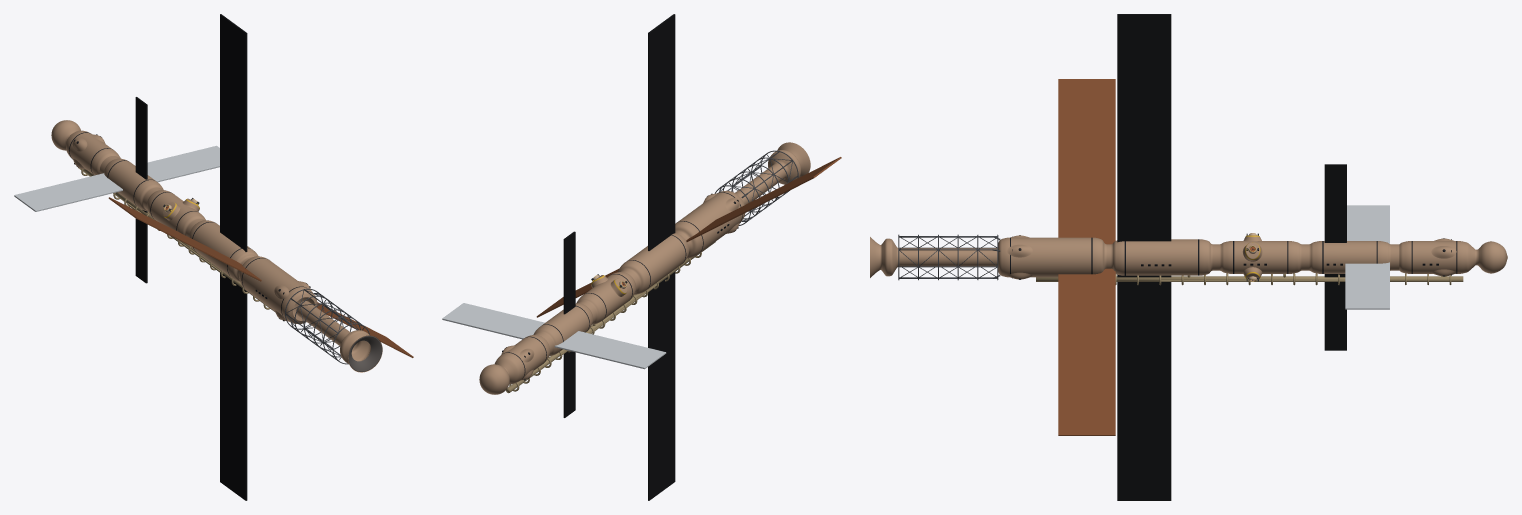
Rendered from mars.glb.
3 renders of one model, left to right at view 1: azimuth 30°, elevation 25°; view 2: azimuth 150°, elevation 25°; view 3: azimuth 270°, elevation 25°, orthographic. The views are drawn at different scales.
Visible parts, largest first — view 1: B_hull_B_hull, Rad4_dark, Rad5_dark, Rad1_light, N_hull_N_hull, A_core, Rad0_light, A_hull_truss, Rad6_bronze, Rad2_dark, Rad3_dark, A_bell (+2 smaller); view 2: B_hull_B_hull, Rad4_dark, Rad5_dark, N_hull_N_hull, Rad1_light, A_core, Rad0_light, A_hull_truss, Rad6_bronze, B_coil_B_gun, Rad2_dark, Rad3_dark; view 3: B_hull_B_hull, Rad4_dark, Rad5_dark, Rad7_bronze, Rad6_bronze, N_hull_N_hull, A_core, Rad0_light, A_hull_truss, B_coil_B_gun, Rad2_dark, Rad3_dark (+1 smaller).
Part boxes in pixels (<box>): B_hull_B_hull: <box>99,156,317,324</box>; Rad4_dark: <box>220,14,247,251</box>; Rad5_dark: <box>220,273,247,500</box>; Rad1_light: <box>14,173,122,211</box>; N_hull_N_hull: <box>51,120,120,175</box>; A_core: <box>296,301,382,372</box>; Rad0_light: <box>147,145,219,182</box>; A_hull_truss: <box>285,288,370,364</box>; Rad6_bronze: <box>108,197,261,281</box>; Rad2_dark: <box>135,97,147,179</box>; Rad3_dark: <box>135,210,147,283</box>; A_bell: <box>348,336,382,371</box>; B_hull_B_hull: <box>533,190,745,356</box>; Rad4_dark: <box>648,14,675,250</box>; Rad5_dark: <box>648,272,675,500</box>; N_hull_N_hull: <box>479,335,549,394</box>; Rad1_light: <box>554,331,666,369</box>; A_core: <box>735,142,810,204</box>; Rad0_light: <box>442,303,544,339</box>; A_hull_truss: <box>715,150,798,225</box>; Rad6_bronze: <box>686,157,841,241</box>; B_coil_B_gun: <box>506,241,715,393</box>; Rad2_dark: <box>563,231,575,314</box>; Rad3_dark: <box>563,351,575,417</box>; B_hull_B_hull: <box>998,235,1399,279</box>; Rad4_dark: <box>1117,14,1171,242</box>; Rad5_dark: <box>1117,274,1171,500</box>; Rad7_bronze: <box>1058,268,1115,435</box>; Rad6_bronze: <box>1058,79,1115,244</box>; N_hull_N_hull: <box>1399,238,1507,276</box>; A_core: <box>870,237,997,277</box>; Rad0_light: <box>1345,262,1389,309</box>; A_hull_truss: <box>898,234,1000,280</box>; B_coil_B_gun: <box>1036,273,1463,285</box>; Rad2_dark: <box>1324,164,1346,242</box>; Rad3_dark: <box>1324,274,1346,350</box>.
Size of the model in its own units: 68.01 by 109 by 130.
